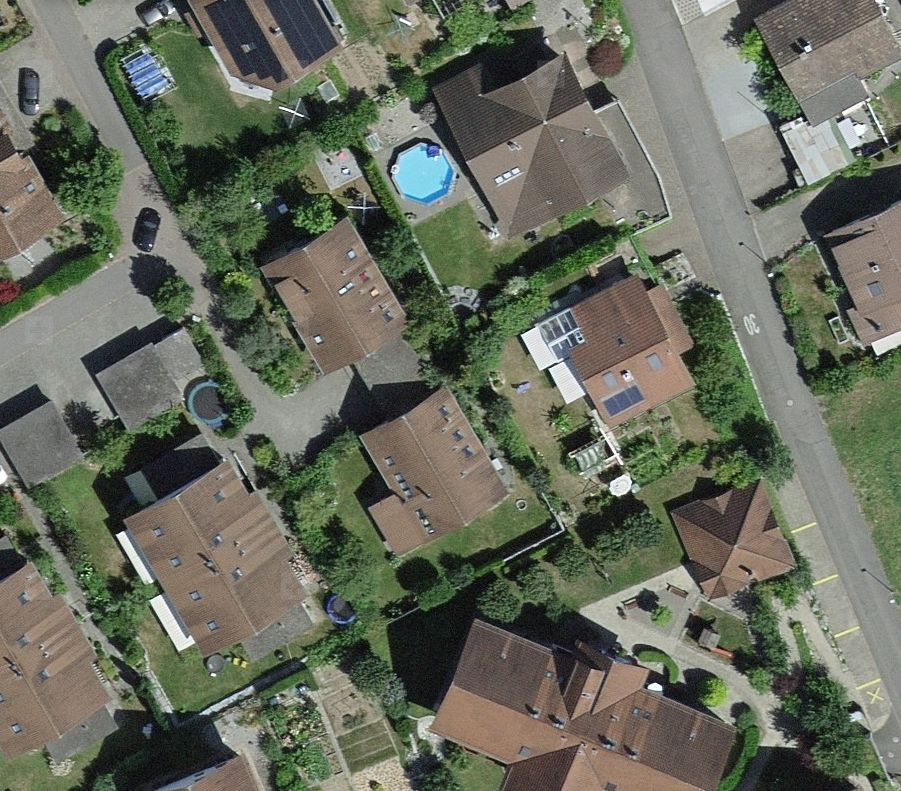solar: (204, 1, 341, 84), (591, 377, 651, 421)
